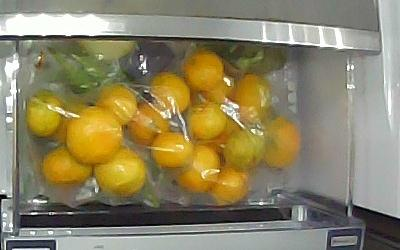tangerine_vinyl: (68, 106, 123, 167), (94, 145, 147, 197), (42, 142, 95, 187), (260, 118, 300, 171), (177, 147, 221, 192), (129, 101, 171, 147), (148, 71, 190, 117), (181, 49, 224, 93), (208, 162, 250, 205), (25, 93, 62, 141), (235, 76, 272, 124), (226, 124, 266, 168), (150, 133, 195, 170), (98, 84, 137, 126), (186, 102, 229, 139)
